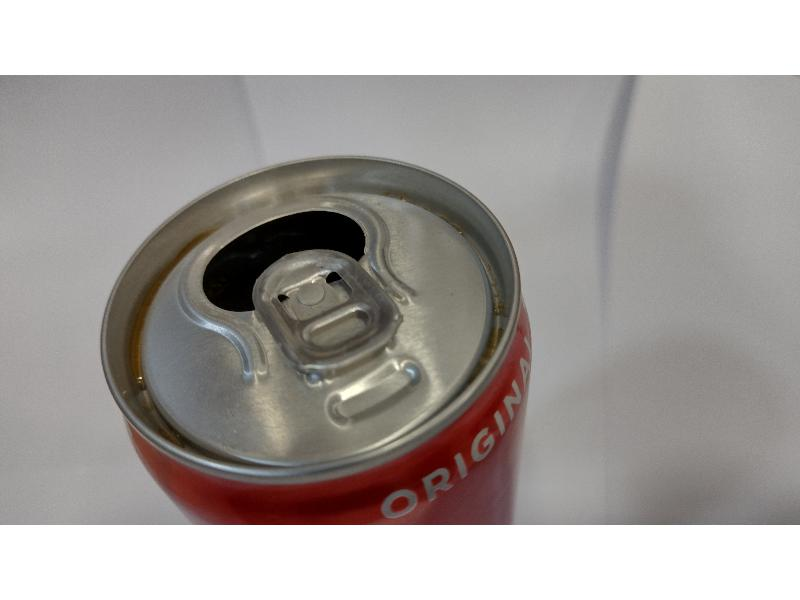can: (86, 144, 535, 524)
